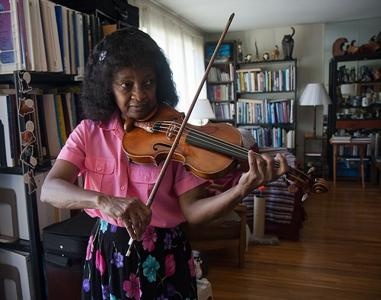person: (41, 28, 289, 300)
